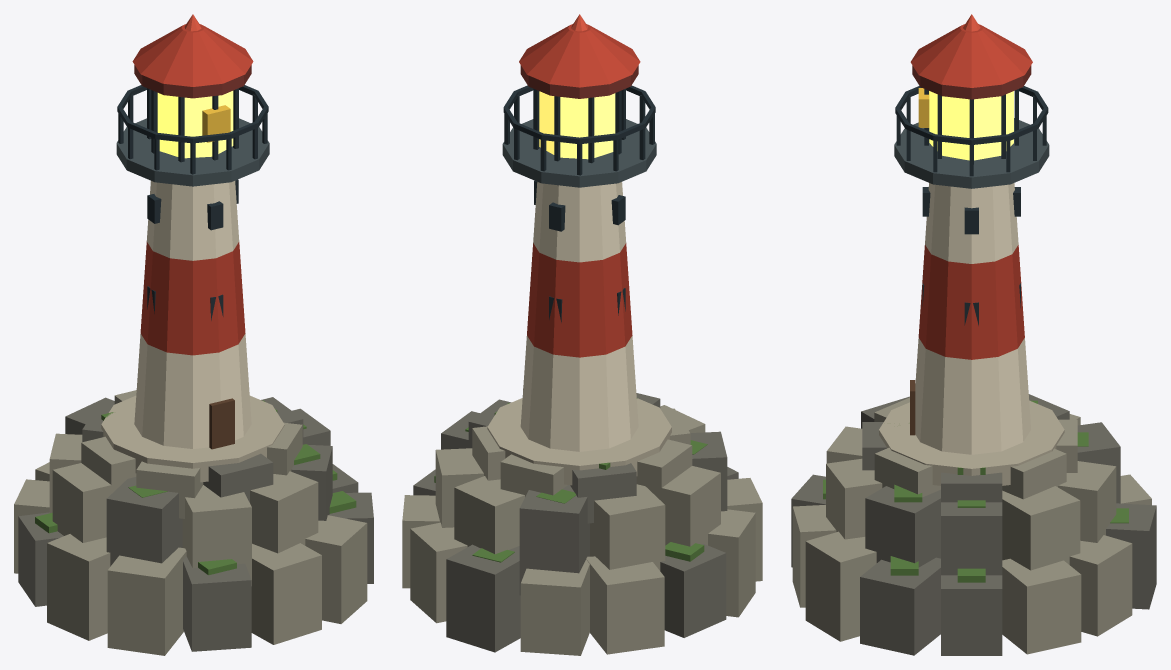
The model's file is main_lighthouse.glb.
The picture shows the model from 3 angles, left to right: view 1: azimuth 30°, elevation 25°; view 2: azimuth 150°, elevation 25°; view 3: azimuth 270°, elevation 25°; orthographic projection.
Visible parts, largest first — view 1: body__stone.003, body__stone_dark.002, body__cream.007, body__red.003, body__dark.007, body__stone2.003, body__metal.008, body__fire2.001, body__leaf.002, body__red_dark.001, body__wood_dark.007, light_rotor__yellow2.001; view 2: body__stone.003, body__stone_dark.002, body__cream.007, body__red.003, body__dark.007, body__stone2.003, body__metal.008, body__fire2.001, body__leaf.002, body__red_dark.001; view 3: body__stone.003, body__stone_dark.002, body__cream.007, body__red.003, body__stone2.003, body__dark.007, body__metal.008, body__fire2.001, body__leaf.002, body__red_dark.001.
Boxes of the visible parts, box(x1,y1,x2,y2) form: body__stone.003: box(14, 390, 367, 655); body__stone_dark.002: box(18, 397, 373, 651); body__cream.007: box(134, 181, 251, 448); body__red.003: box(132, 24, 253, 355); body__dark.007: box(117, 85, 268, 320); body__stone2.003: box(101, 395, 284, 482); body__metal.008: box(116, 118, 269, 186); body__fire2.001: box(157, 91, 233, 158); body__leaf.002: box(35, 400, 356, 575); body__red_dark.001: box(134, 65, 251, 98); body__wood_dark.007: box(209, 398, 234, 449); light_rotor__yellow2.001: box(202, 105, 230, 142); body__stone.003: box(402, 388, 762, 655); body__stone_dark.002: box(413, 393, 738, 652); body__cream.007: box(520, 182, 638, 451); body__red.003: box(519, 24, 640, 357); body__dark.007: box(503, 85, 655, 322); body__stone2.003: box(487, 398, 671, 485); body__metal.008: box(502, 119, 656, 187); body__fire2.001: box(539, 91, 615, 159); body__leaf.002: box(434, 398, 707, 562); body__red_dark.001: box(520, 65, 638, 98); body__stone.003: box(792, 397, 1151, 654); body__stone_dark.002: box(791, 394, 1156, 655); body__cream.007: box(915, 183, 1030, 454); body__red.003: box(910, 24, 1032, 359); body__stone2.003: box(879, 400, 1064, 485); body__dark.007: box(895, 86, 1048, 325); body__metal.008: box(894, 118, 1049, 188); body__fire2.001: box(929, 91, 1013, 160); body__leaf.002: box(823, 400, 1128, 582); body__red_dark.001: box(912, 65, 1031, 99).
Size of the model in its own units: 3.92 by 7.03 by 4.05.
